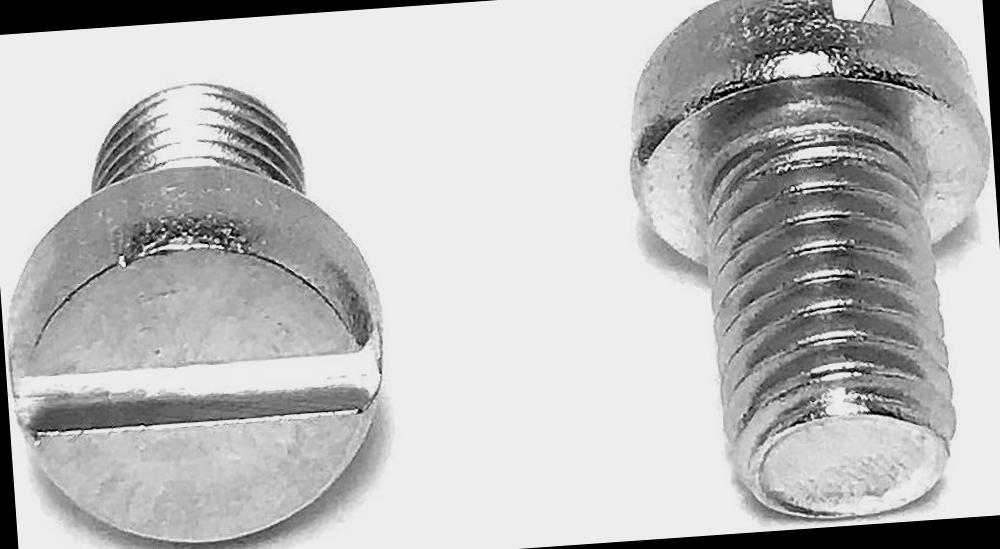slotted: (0, 151, 397, 549)
